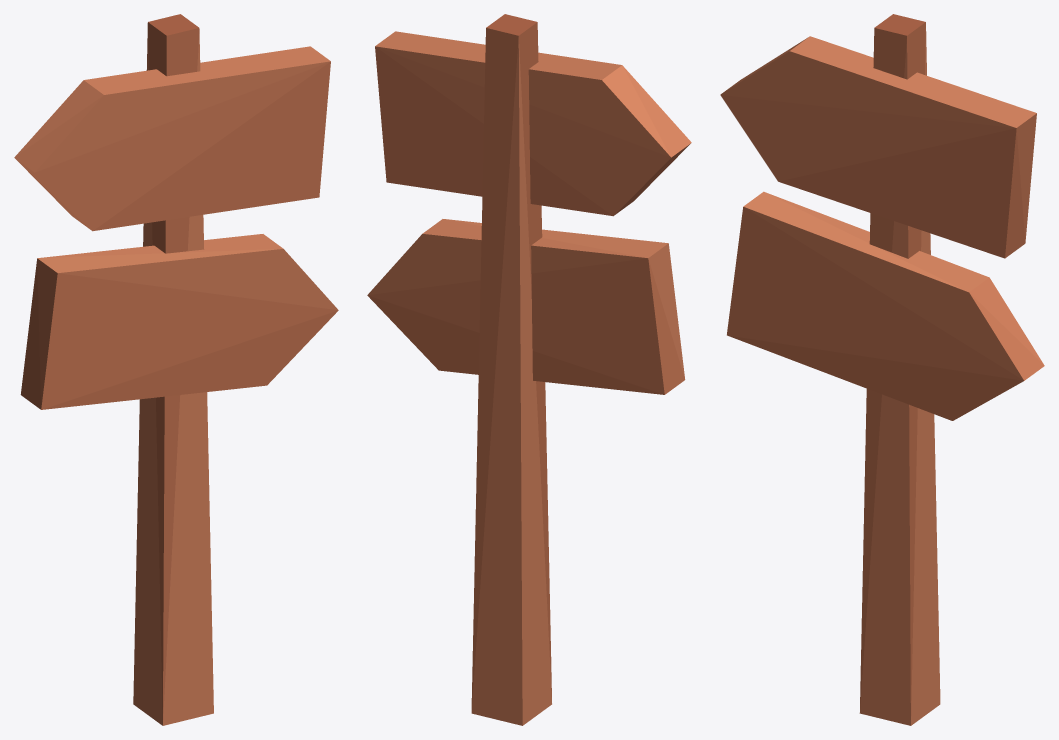
File: signpost.glb
The picture shows the model from 3 angles, left to right: view 1: azimuth 30°, elevation 25°; view 2: azimuth 150°, elevation 25°; view 3: azimuth 330°, elevation 25°; orthographic projection.
Parts seen in each view (by area): view 1: cdb845d, ccf7a55, cd7815b, ccb7753, cc77450, cd37d58, cdf8860, cb46444; view 2: cdb845d, cc77450, ccf7a55, cd7815b, ccb7753, cd37d58, cdf8860, cb46444; view 3: cdb845d, ccf7a55, ccb7753, cd7815b, cc77450, cd37d58, cdf8860, cb46444.
Boxes of the visible parts, x1,y1,x2,y2 form: cdb845d: (15, 23, 330, 725); ccf7a55: (15, 158, 337, 409); cd7815b: (14, 61, 338, 407); ccb7753: (17, 61, 330, 230); cc77450: (42, 22, 338, 724); cd37d58: (35, 62, 329, 230); cdf8860: (38, 249, 279, 272); cb46444: (148, 14, 198, 35); cdb845d: (375, 31, 670, 725); cc77450: (367, 22, 663, 708); ccf7a55: (368, 143, 690, 394); cd7815b: (367, 46, 691, 378); ccb7753: (375, 46, 668, 215); cd37d58: (376, 47, 670, 215); cdf8860: (445, 219, 668, 257); cb46444: (486, 14, 536, 35); cdb845d: (746, 28, 1036, 725); ccf7a55: (727, 207, 1044, 380); ccb7753: (779, 128, 1025, 258); cd7815b: (720, 51, 1023, 380); cc77450: (728, 22, 1023, 715); cd37d58: (720, 95, 1044, 365); cdf8860: (743, 191, 967, 291); cb46444: (874, 14, 925, 35).
Bounding box in the file's own units: 0.2141 × 0.4601 × 0.043.
